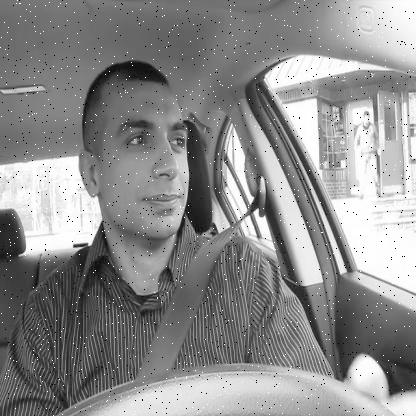seatbelt: (63, 49, 268, 404)
